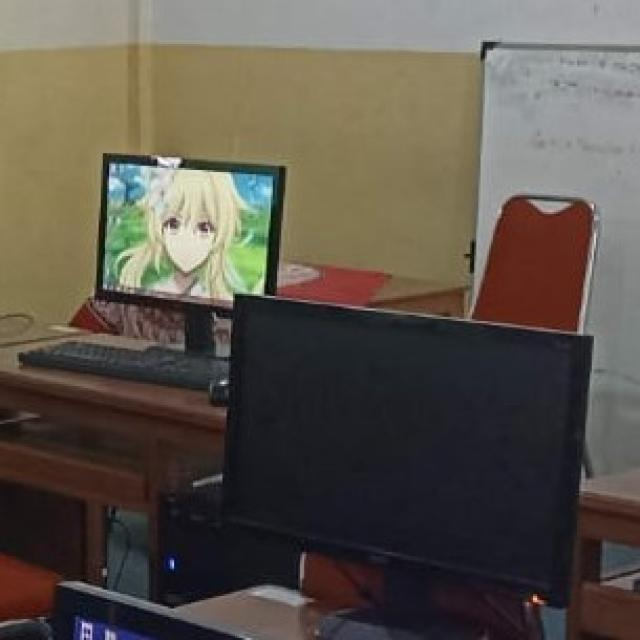offscreen: (225, 298, 589, 604)
onscreen: (98, 154, 285, 301)
